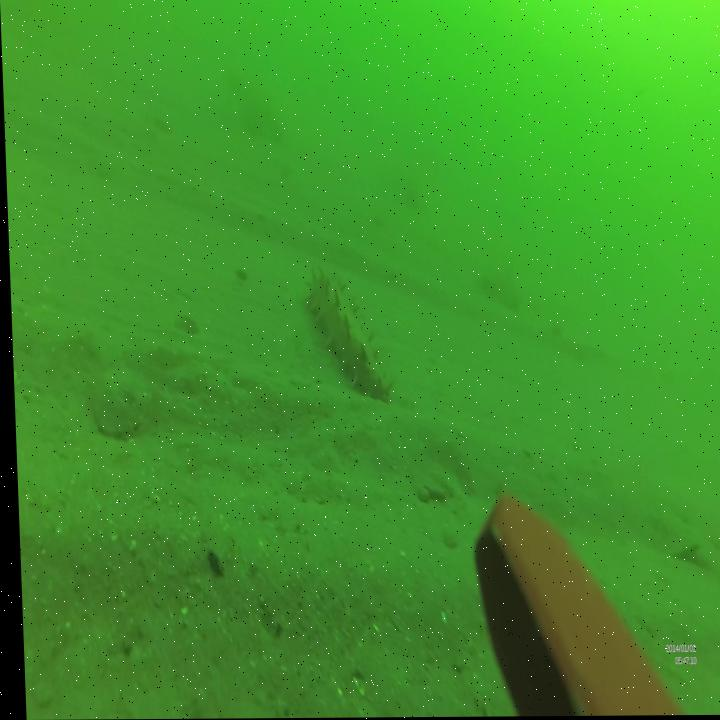holothurian: (303, 266, 389, 406)
